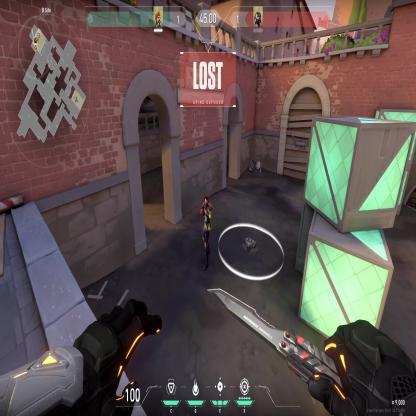enemy: (199, 193, 213, 275)
